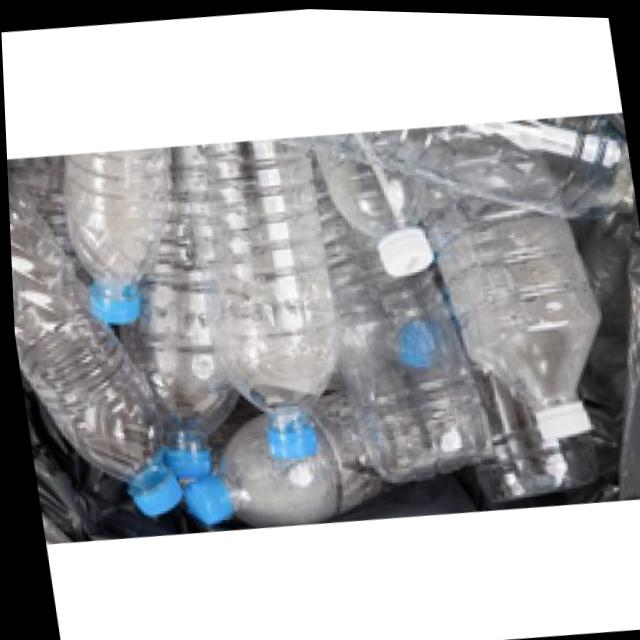plastic_water_bottles: (176, 137, 353, 471), (457, 205, 616, 463), (37, 317, 182, 549), (55, 160, 171, 328), (339, 190, 437, 285)
